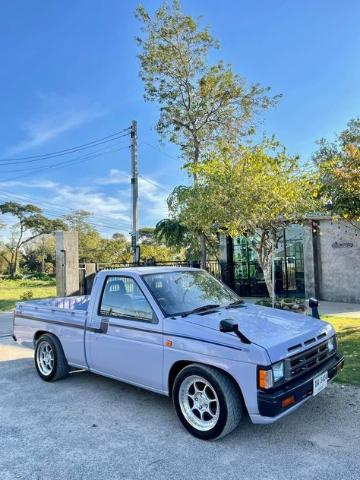pickup-truck: (11, 265, 345, 442)
